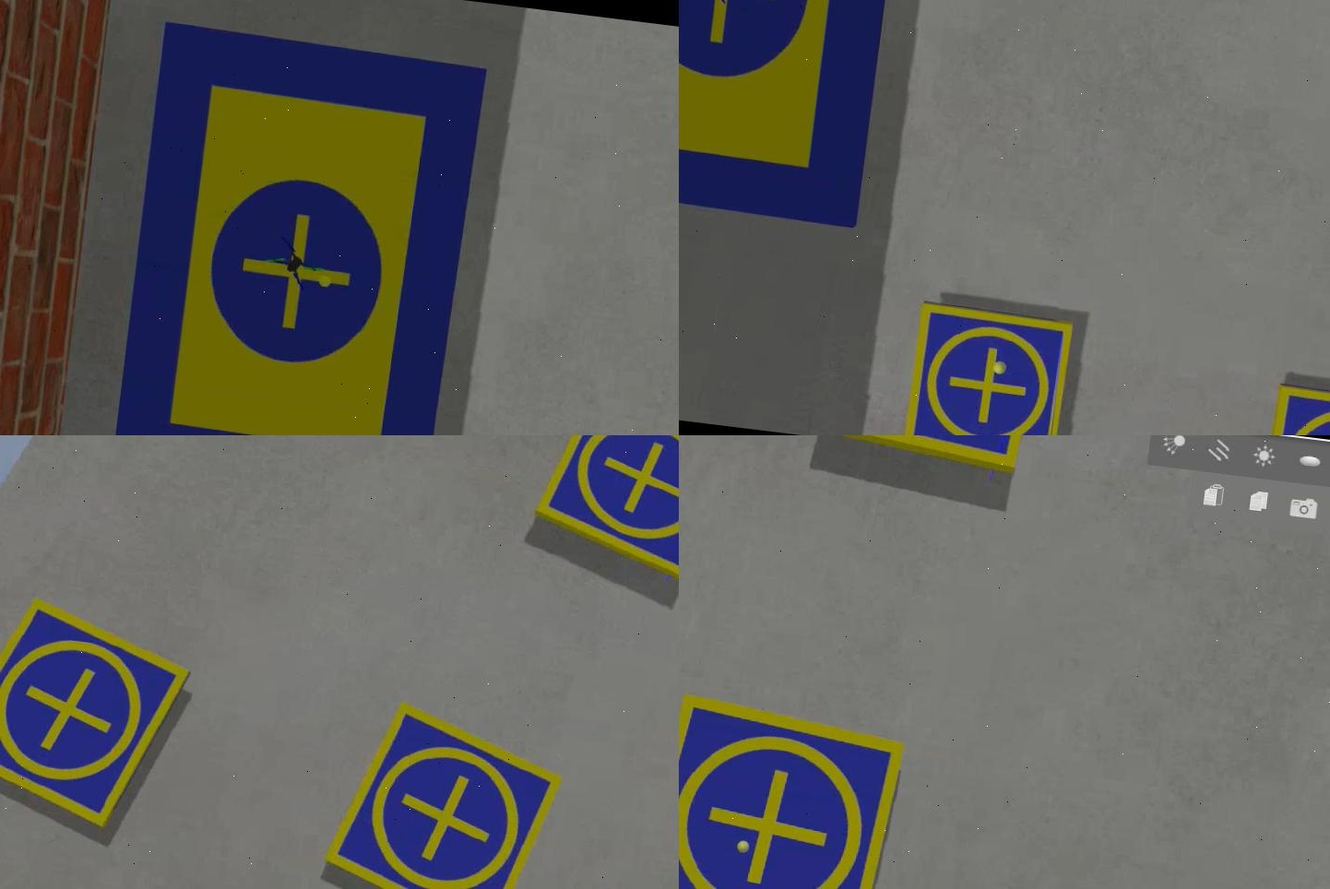large_base: (110, 22, 487, 435), (678, 1, 915, 227)
small_base: (0, 591, 196, 839), (315, 697, 564, 889), (678, 690, 907, 889), (901, 299, 1076, 435), (528, 435, 678, 589), (803, 435, 1024, 475), (1263, 380, 1328, 435)
